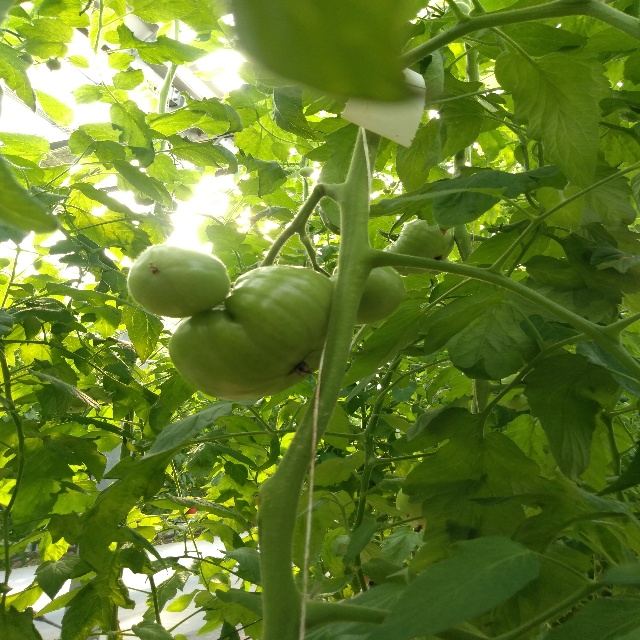b_green: (168, 265, 348, 400), (127, 243, 233, 318), (328, 256, 405, 325), (379, 217, 454, 276)
